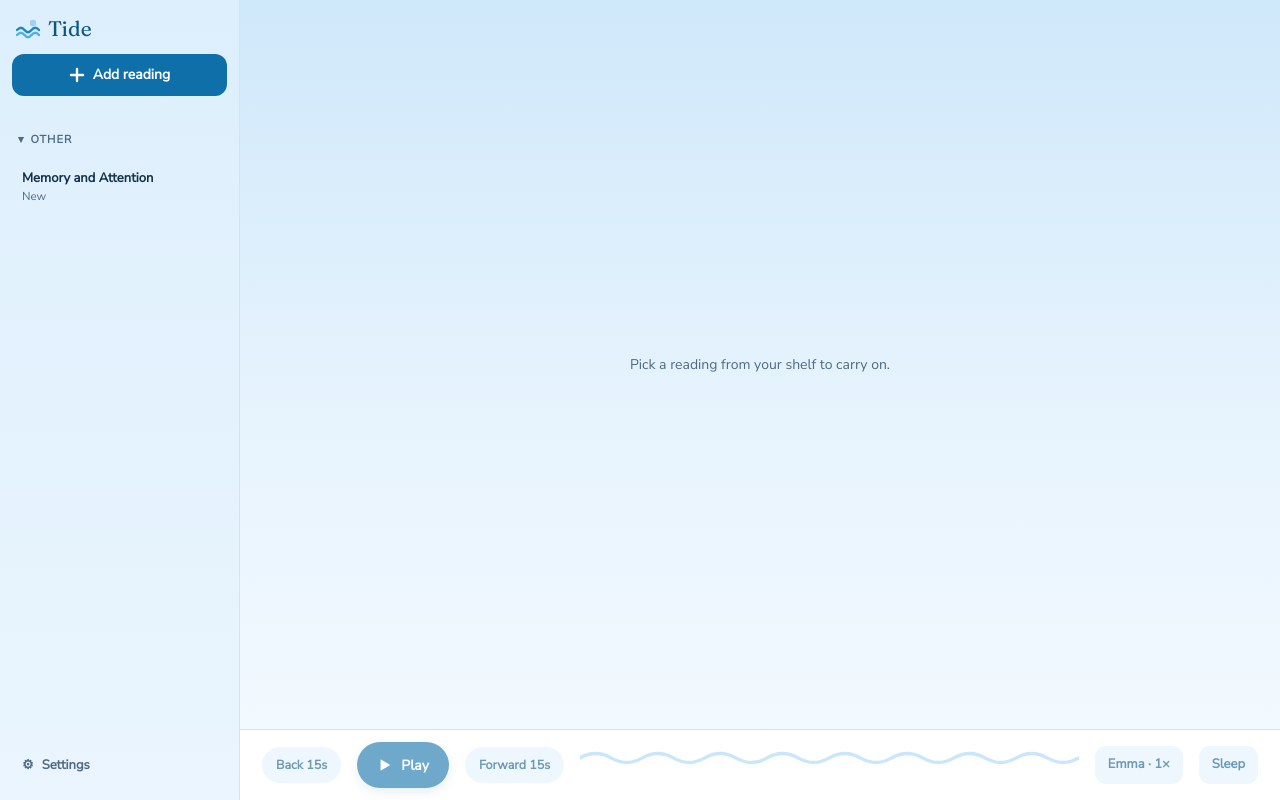
Sleep timer › the popover lists the seven options with a check on the chosen one
The width and height of the screenshot is (1280, 800).
What coordinates should you click on to do the following:
click the button "Memory and Attention New"
I would click on:
 (120, 187)
Its box is 12,162 -> 227,212.
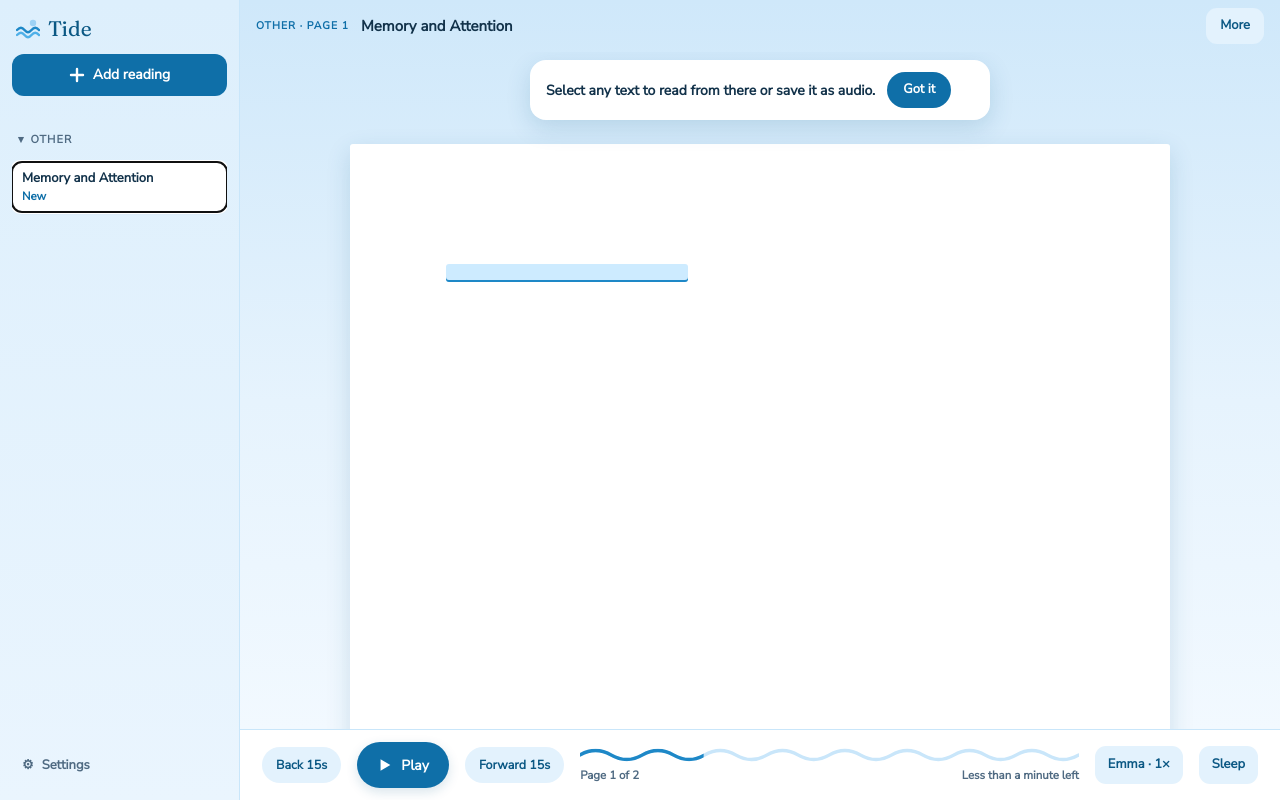
Now the element with test id "sentence-highlight" is shown, box 446,264 -> 688,282
What coordinates should you click on to do the following:
click the button "Sleep"
I would click on:
 (1228, 765)
Its box is 1199,746 -> 1258,784.
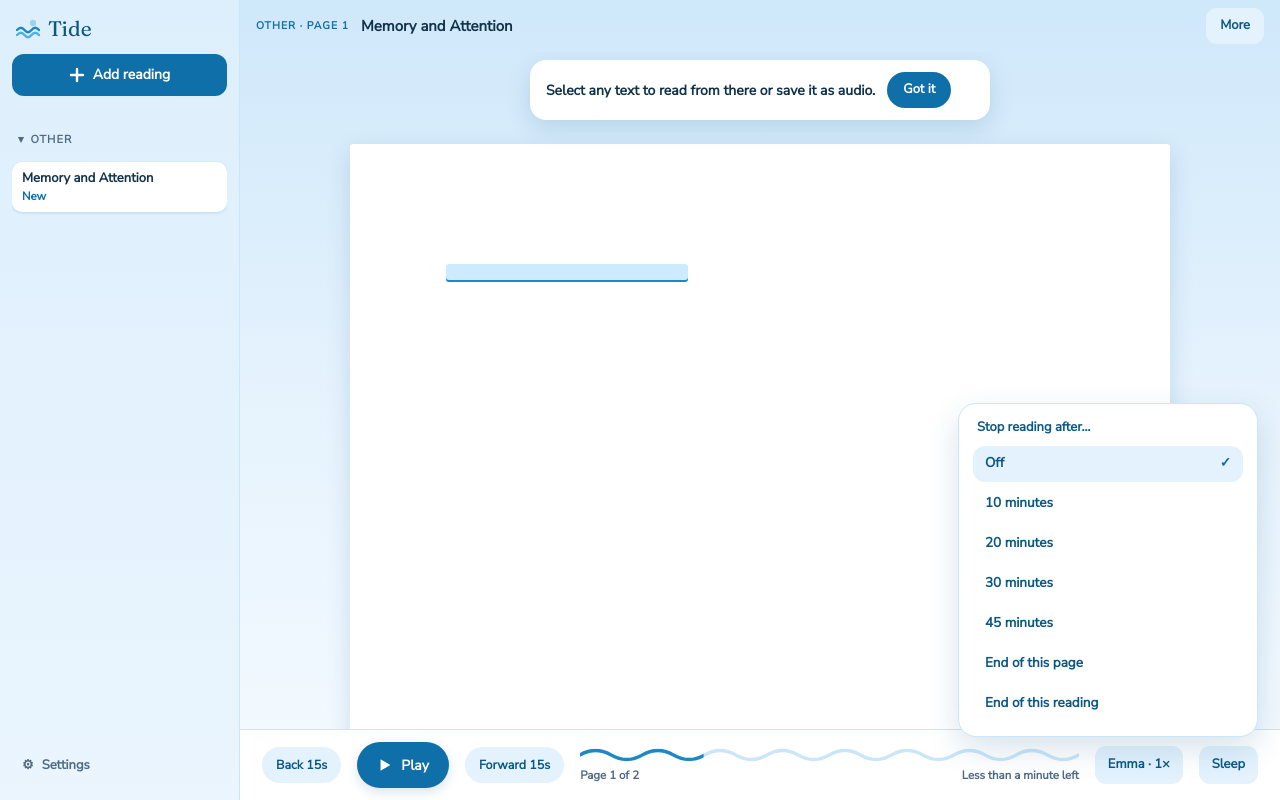
Now the heading "Stop reading after…" is shown, box 977,418 -> 1090,436
What coordinates should you click on to do the following:
click the radio button labelled "30 minutes"
I would click on:
 (1019, 583)
Its box is 973,566 -> 1243,602.
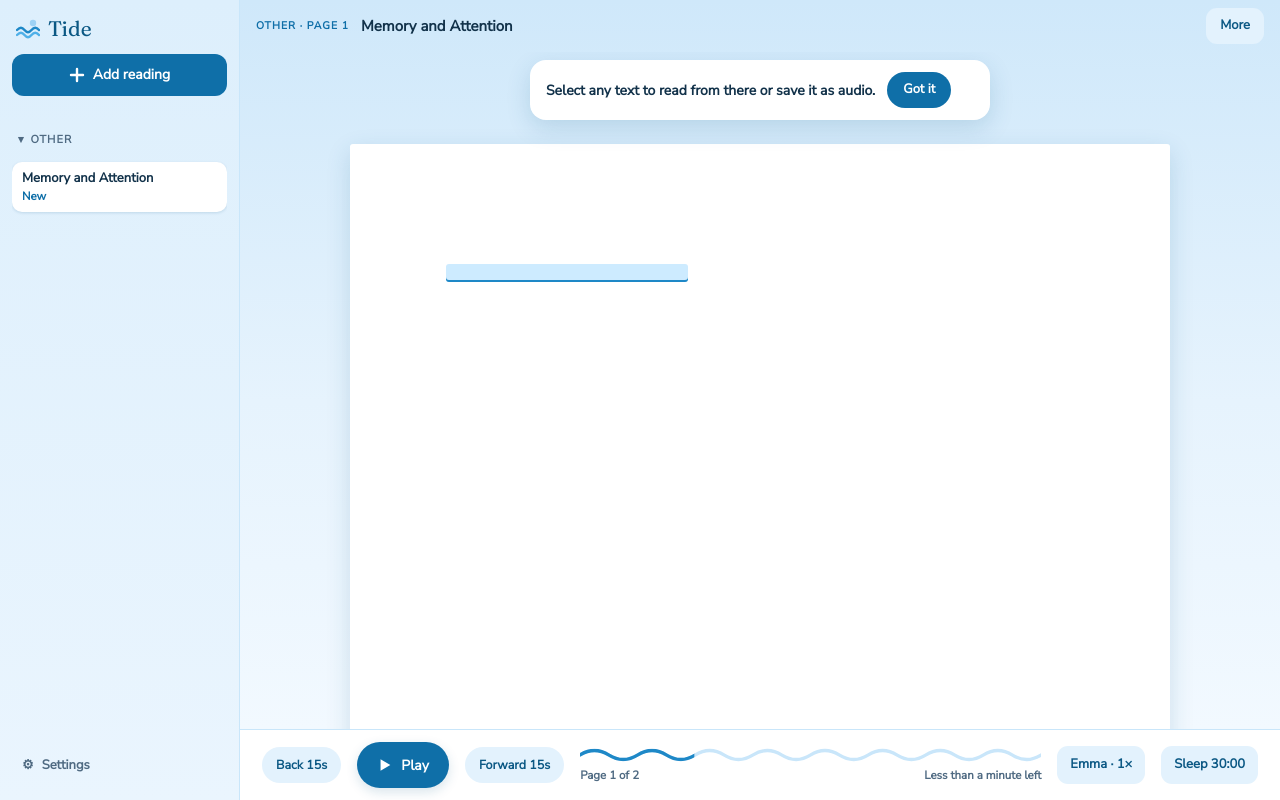
Now the dialog is gone
Now the button "Sleep 30:00" is shown
What coordinates should you click on to do the following:
click the button "Sleep 30:00"
I would click on:
 (1210, 765)
Its box is 1161,746 -> 1258,784.
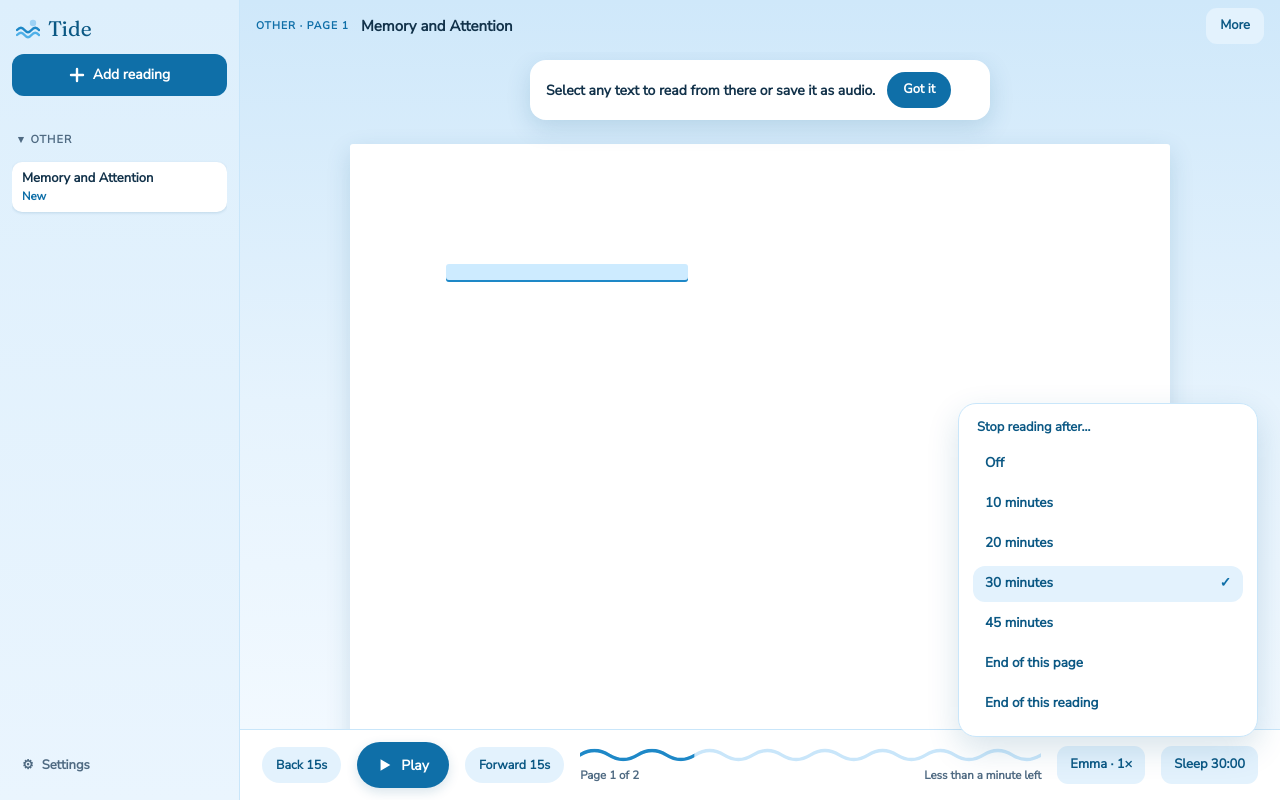
Now the radio button labelled "30 minutes" shows "✓", box 973,566 -> 1243,602
